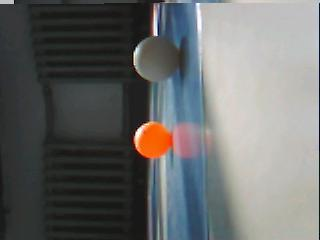oball: (134, 121, 171, 161)
